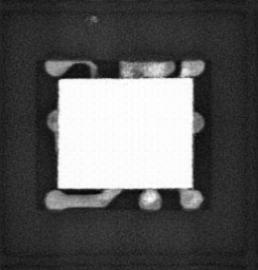DIE_INK: (89, 13, 98, 22)
